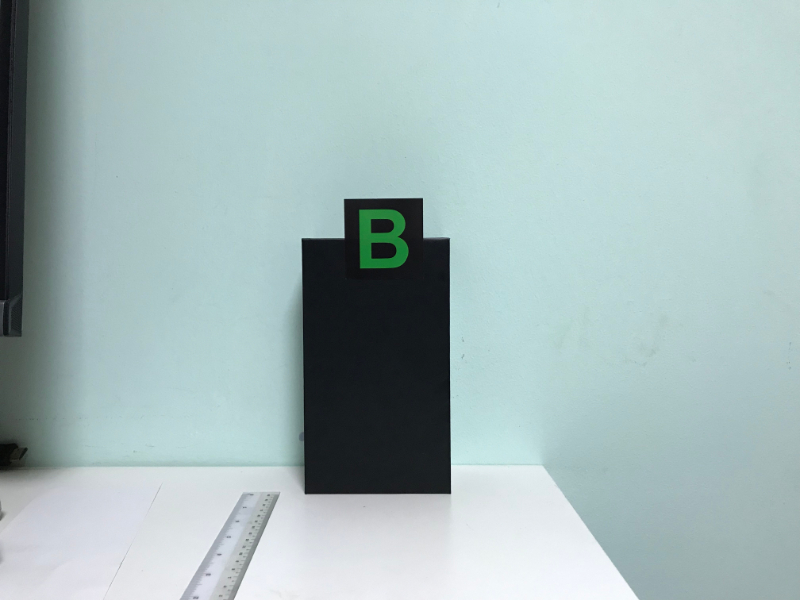B-12: (346, 200, 422, 279)
